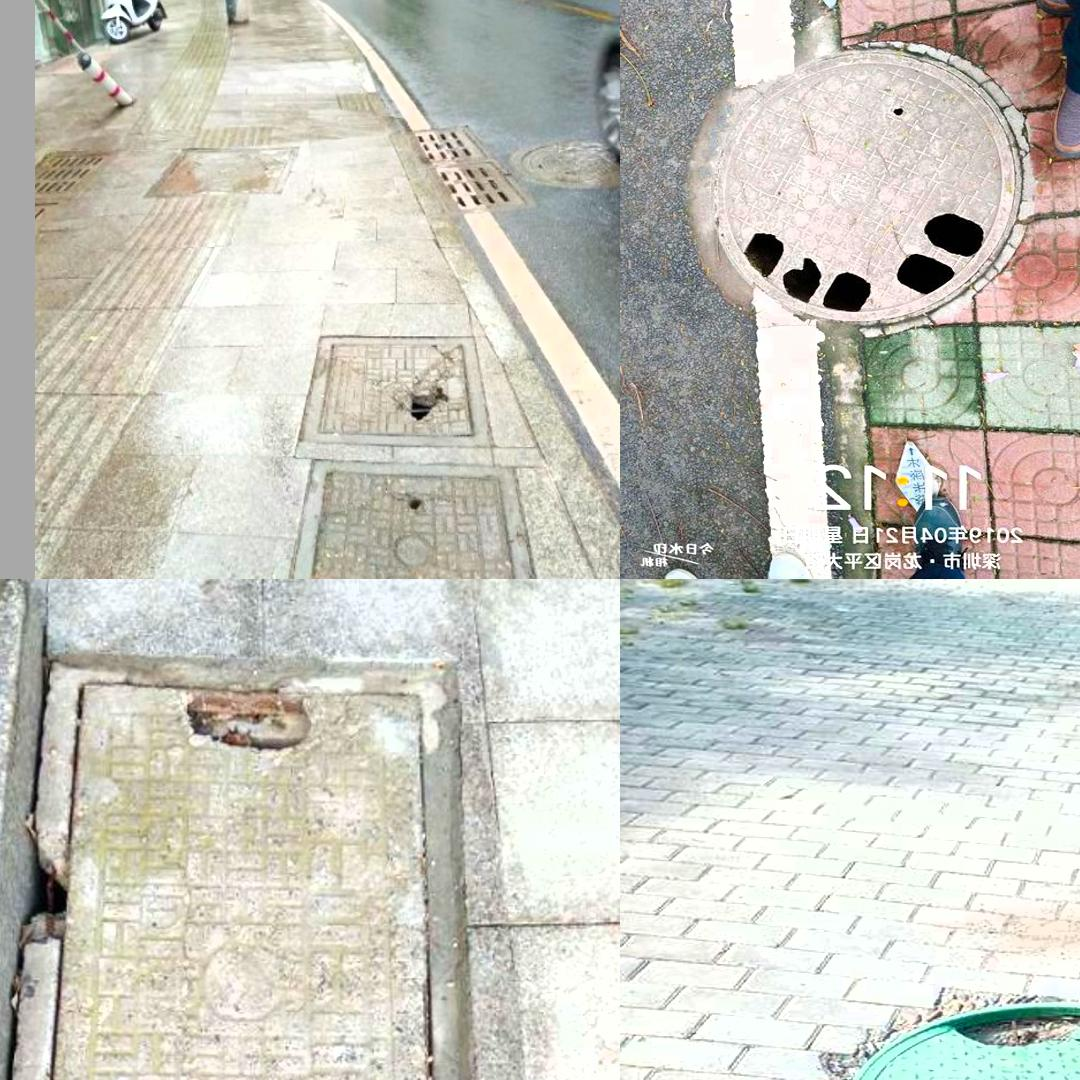broke: (0, 650, 480, 1080), (681, 35, 1034, 340), (287, 459, 541, 579), (794, 996, 1080, 1080), (293, 335, 497, 444)
